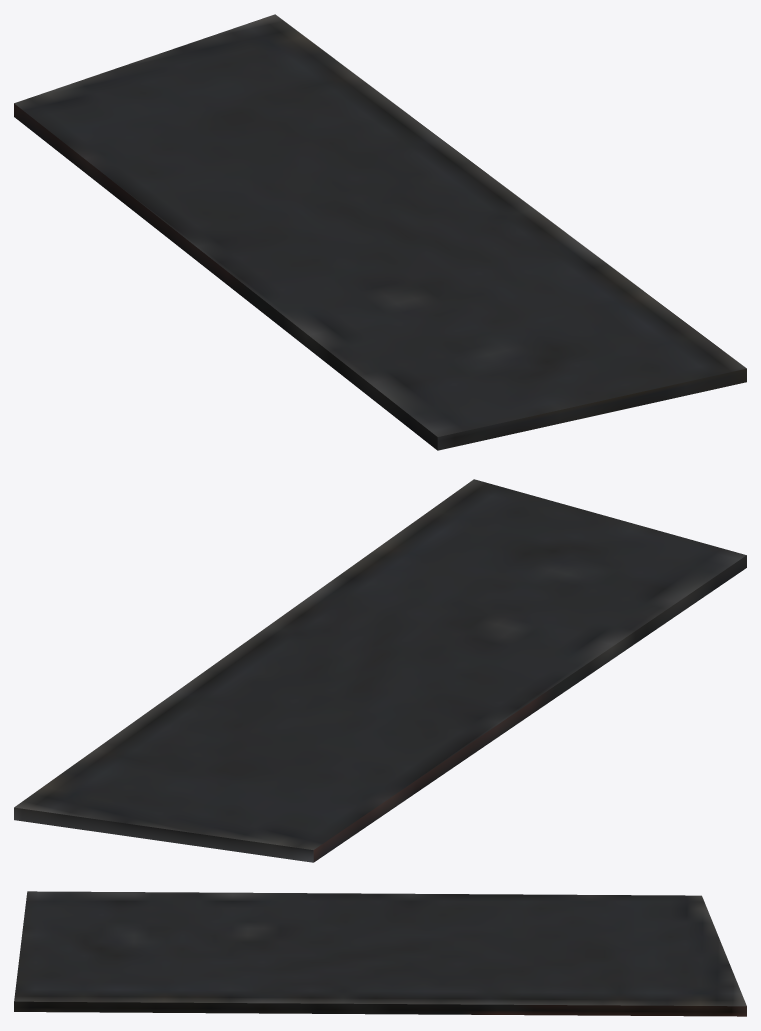
Rendered from FordCrownVic92WindowArmor_WorldItem.fbx.
3 views of the same model, one above another, from view 1: azimuth 30°, elevation 25°; view 2: azimuth 150°, elevation 25°; view 3: azimuth 270°, elevation 25° (orthographic). The views are drawn at different scales.
Visible parts, largest first — view 1: FrontRightWindowArmor_obj; view 2: FrontRightWindowArmor_obj; view 3: FrontRightWindowArmor_obj.
Part boxes in pixels (box(x1,y1,x2,y2)): FrontRightWindowArmor_obj: box(14, 14, 746, 450); FrontRightWindowArmor_obj: box(14, 479, 746, 862); FrontRightWindowArmor_obj: box(14, 891, 746, 1016).
Size of the model in its own units: 0.3036 by 0.0165 by 0.8152.
